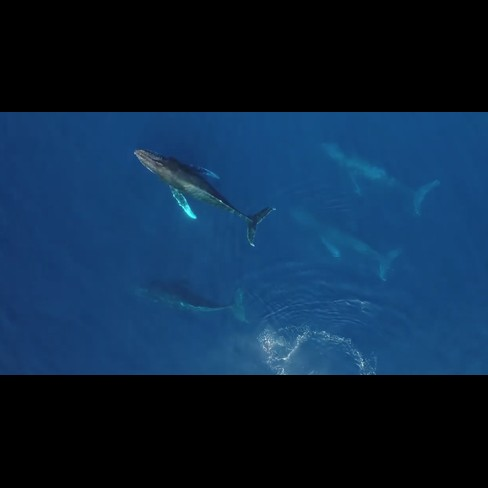hump: (132, 146, 278, 250), (314, 135, 445, 223), (285, 201, 406, 284), (126, 273, 250, 329)
